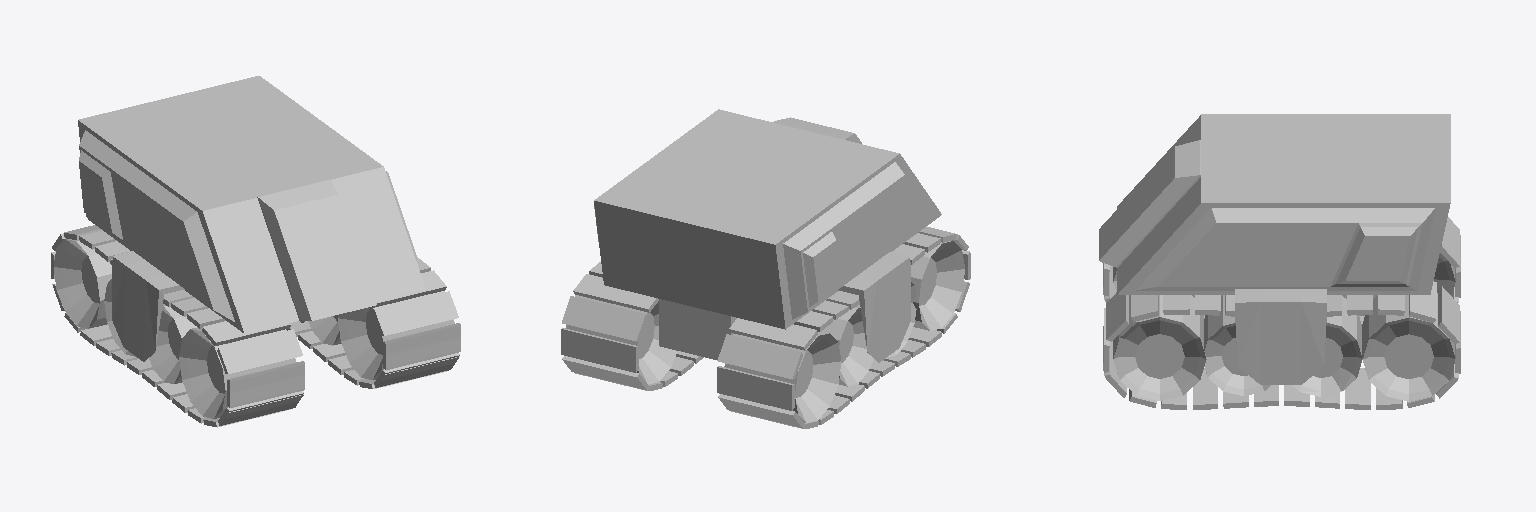
Rendered from tank.obj.
The picture shows the model from 3 angles: view 1: azimuth 30°, elevation 25°; view 2: azimuth 150°, elevation 25°; view 3: azimuth 270°, elevation 25°; orthographic projection.
Parts seen in each view (by area): view 1: Cube.003, Cube.006_Cube.007, Cylinder.003_Cylinder.004, Cube.005_Cube.006, Cube.007_Cube.008, Cylinder.001_Cylinder.002; view 2: Cube.003, Cube.006_Cube.007, Cylinder.003_Cylinder.004, Cube.005_Cube.006, Cube.007_Cube.008, Cylinder.001_Cylinder.002; view 3: Cube.003, Cylinder.001_Cylinder.002, Cube.005_Cube.006, Cube.000_Cube.005, Cube.006_Cube.007, Cylinder.003_Cylinder.004.
Part boxes in pixels (left/top/right/bottom): Cube.003: left=78, top=76, right=425, bottom=333; Cube.006_Cube.007: left=51, top=225, right=304, bottom=427; Cylinder.003_Cylinder.004: left=54, top=239, right=295, bottom=418; Cube.005_Cube.006: left=286, top=257, right=460, bottom=388; Cube.007_Cube.008: left=112, top=251, right=184, bottom=361; Cylinder.001_Cylinder.002: left=308, top=291, right=454, bottom=379; Cube.003: left=594, top=109, right=941, bottom=359; Cube.006_Cube.007: left=717, top=226, right=970, bottom=428; Cylinder.003_Cylinder.004: left=724, top=241, right=964, bottom=422; Cube.005_Cube.006: left=561, top=262, right=703, bottom=390; Cube.007_Cube.008: left=838, top=252, right=910, bottom=362; Cylinder.001_Cylinder.002: left=566, top=295, right=676, bottom=384; Cube.003: left=1099, top=114, right=1450, bottom=315; Cylinder.001_Cylinder.002: left=1113, top=293, right=1454, bottom=401; Cube.005_Cube.006: left=1103, top=281, right=1460, bottom=409; Cube.000_Cube.005: left=1235, top=289, right=1326, bottom=384; Cube.006_Cube.007: left=1103, top=217, right=1460, bottom=323; Cylinder.003_Cylinder.004: left=1113, top=253, right=1455, bottom=295.
Size of the model in its own units: 6.49 by 4.96 by 8.36.